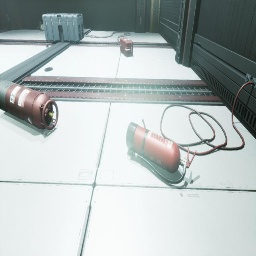0: (37, 24, 44, 31)
FireExtinguisher ]: (126, 122, 197, 184)
FirstAidBox ,: (120, 38, 133, 57)
NitrogenTank ,: (0, 80, 58, 130)
